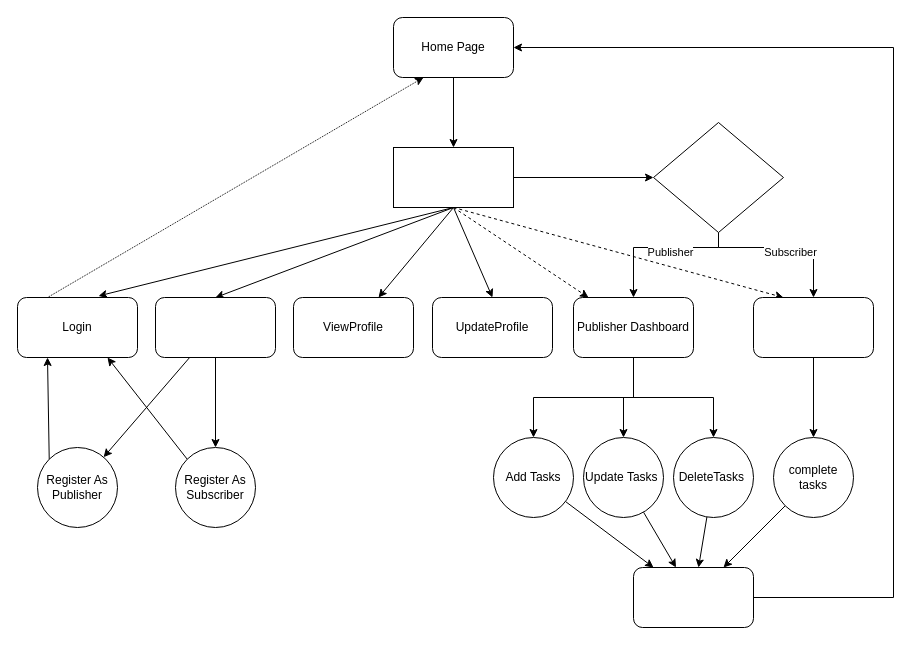
Image size: 919x645. Some labels were removed from this diagram. The shapes that lost their labels are listed below. From the top down, each one's centre as x and y in pixels, then its label:
the point at 453,177: Home Menu
the point at 718,177: Is publisher or subcriber ?
the point at 215,327: RegisterUser
the point at 813,327: Task Dashboard
the point at 693,597: Completion status Screen
